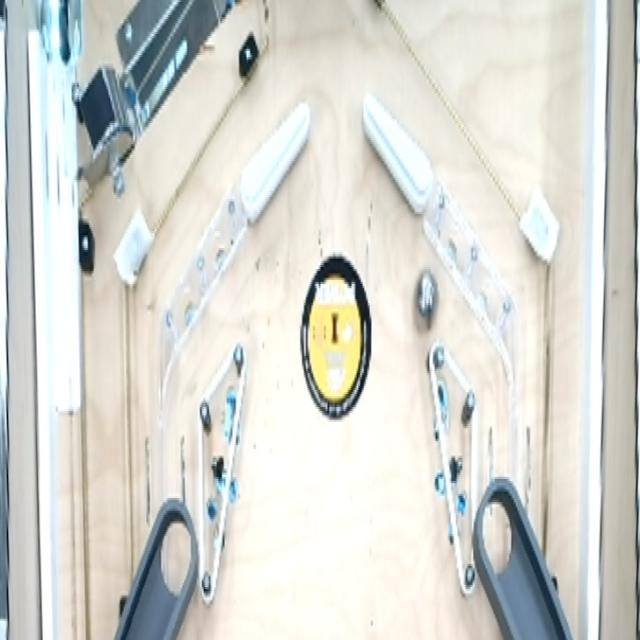ball: (410, 270, 440, 338)
flipper-left: (360, 90, 439, 238)
flipper-right: (240, 91, 312, 232)
